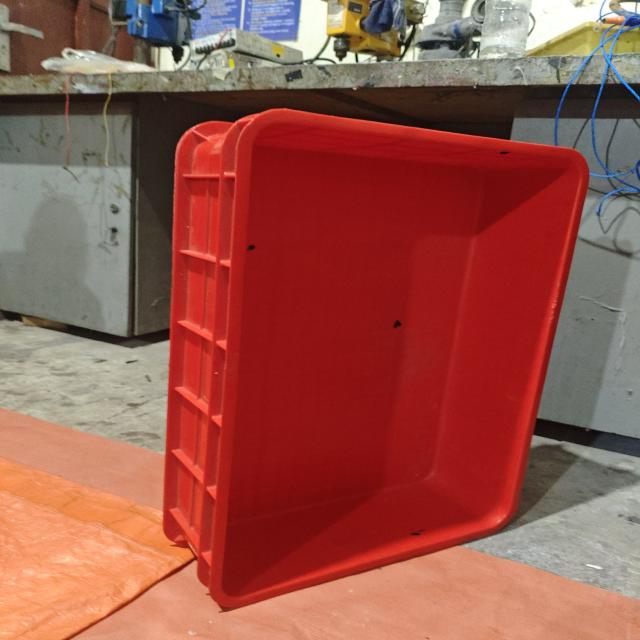red plastic box: (163, 108, 591, 611)
